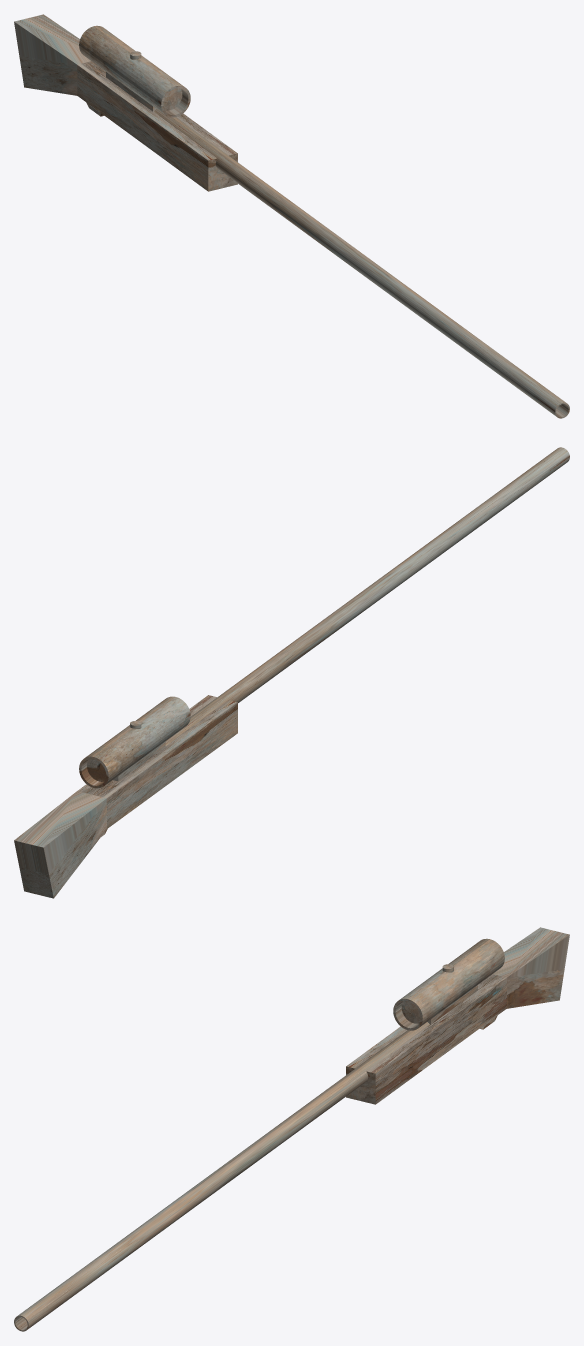
The model's file is sniper.glb.
The picture shows the model from 3 angles, top to bottom: view 1: azimuth 30°, elevation 25°; view 2: azimuth 150°, elevation 25°; view 3: azimuth 330°, elevation 25°; orthographic projection.
Visible parts, largest first — view 1: Cube; view 2: Cube; view 3: Cube.
Boxes of the visible parts, x1,y1,x2,y2 form: Cube: [14, 14, 569, 418]; Cube: [14, 447, 569, 898]; Cube: [14, 927, 569, 1331].
Size of the model in its own units: 0.0942 by 0.3063 by 2.94.
1 material, 1 textured.
